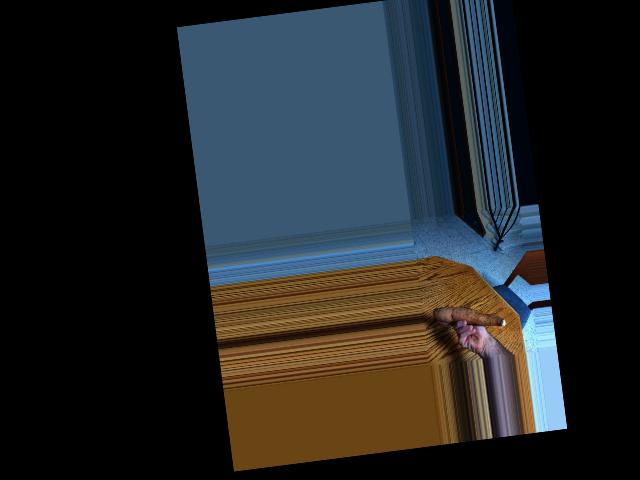sweet_potato: (434, 294, 508, 335)
